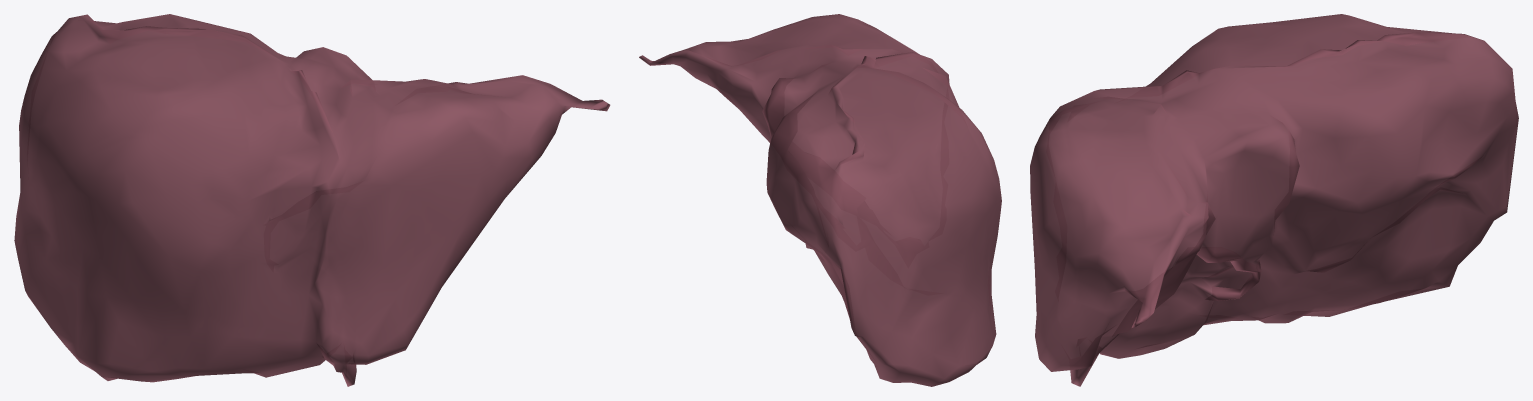
Rendered from liver.glb.
3 renders of one model, left to right at view 1: azimuth 30°, elevation 25°; view 2: azimuth 150°, elevation 25°; view 3: azimuth 270°, elevation 25°, orthographic. The views are drawn at different scales.
Visible parts, largest first — view 1: Lever; view 2: Lever; view 3: Lever.
Part boxes in pixels (x1=…): Lever: x1=14, y1=14, x2=610, y2=386; Lever: x1=639, y1=14, x2=1001, y2=386; Lever: x1=1030, y1=14, x2=1518, y2=386.
Bounding box in the file's own units: 2.45e-08 × 1.5e-08 × 1.97e-08.
